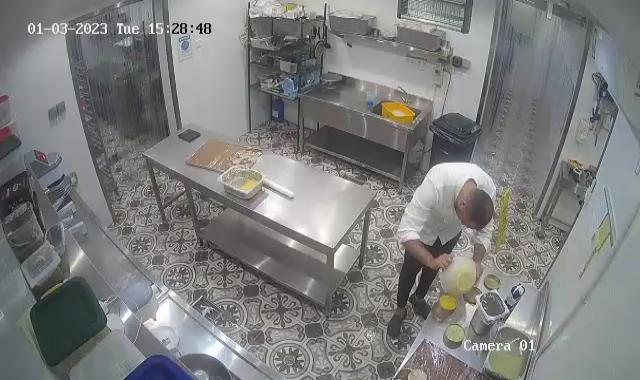no_hairnet: (456, 182, 494, 232)
